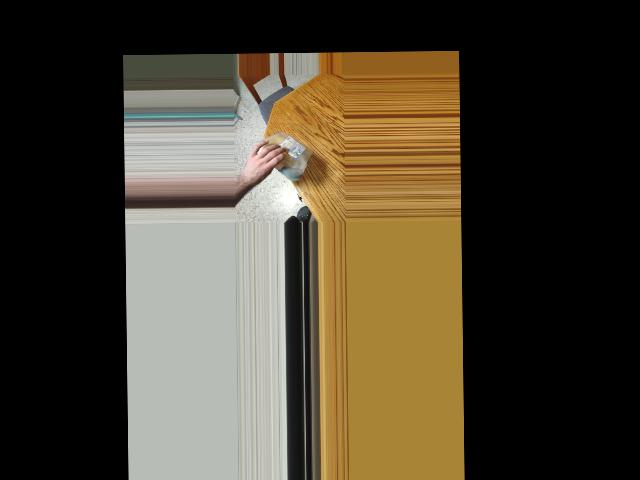cheese: (254, 128, 313, 175)
